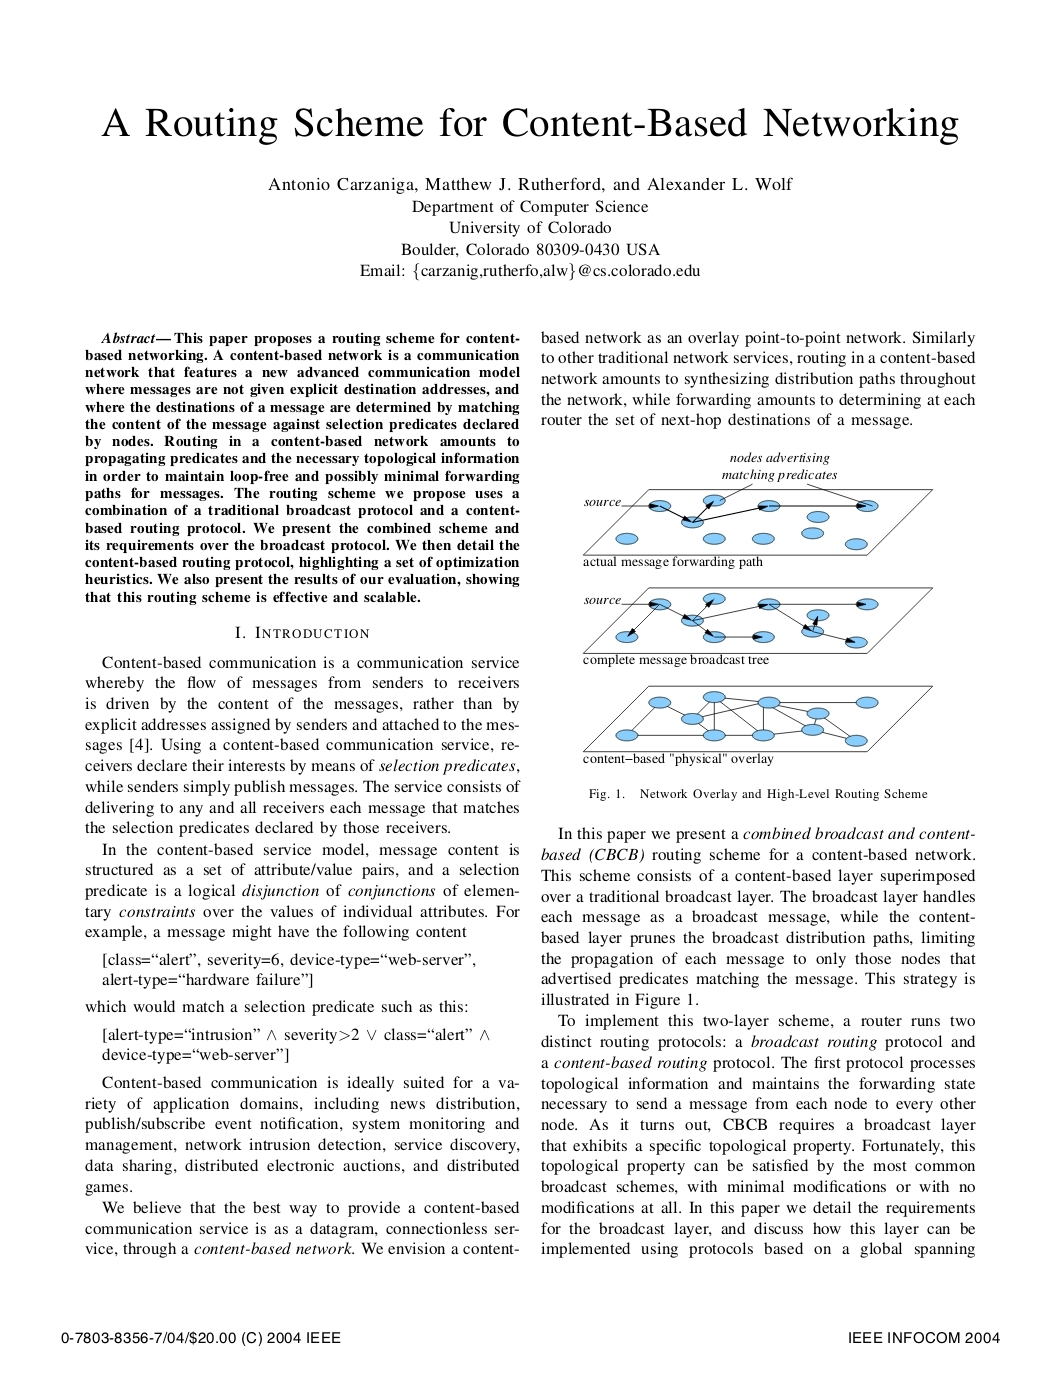figure: (582, 468, 933, 569), (582, 585, 932, 668), (583, 684, 932, 766)
